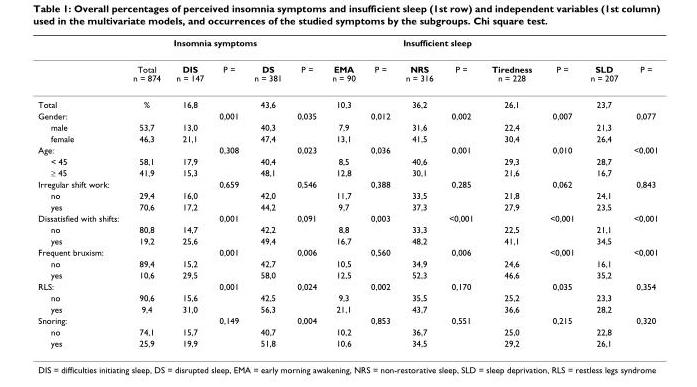table: (37, 37, 657, 347)
table column: (37, 37, 125, 347), (481, 37, 540, 347), (395, 37, 440, 347), (166, 37, 210, 347), (581, 37, 625, 347), (245, 37, 288, 347), (125, 37, 166, 347), (440, 37, 481, 347), (540, 37, 581, 347), (323, 37, 362, 347), (210, 37, 245, 347), (288, 37, 323, 347), (362, 37, 395, 347), (625, 37, 657, 347)
table column header: (37, 37, 657, 90)
table row: (37, 55, 657, 90), (37, 90, 657, 109), (37, 37, 657, 55), (37, 109, 657, 121), (37, 143, 657, 155), (37, 177, 657, 189), (37, 200, 657, 212), (37, 234, 657, 246), (37, 268, 657, 280), (37, 302, 657, 314), (37, 325, 657, 337), (37, 121, 657, 132), (37, 132, 657, 143), (37, 155, 657, 166), (37, 166, 657, 177), (37, 189, 657, 200), (37, 212, 657, 223), (37, 223, 657, 234), (37, 246, 657, 257), (37, 257, 657, 268), (37, 280, 657, 291), (37, 291, 657, 302), (37, 314, 657, 325), (37, 337, 657, 347)
table spanning cell: (395, 37, 657, 55), (166, 37, 395, 55), (125, 37, 166, 90)
